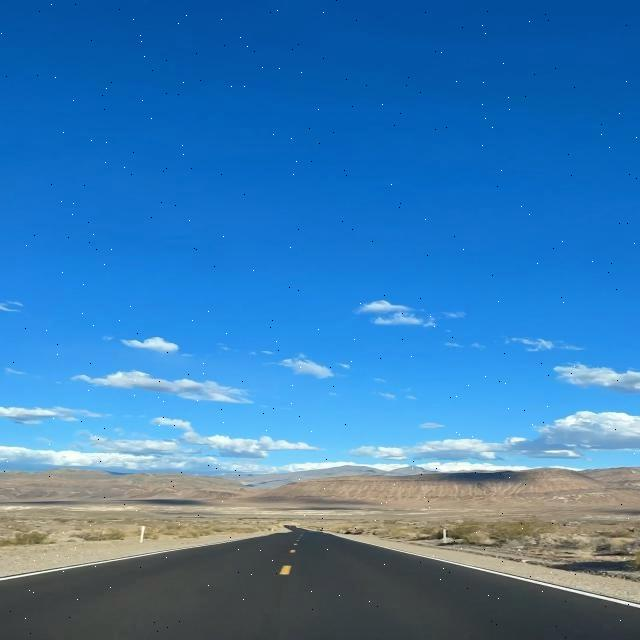lane: (279, 565, 291, 575)
road: (1, 527, 640, 639)
